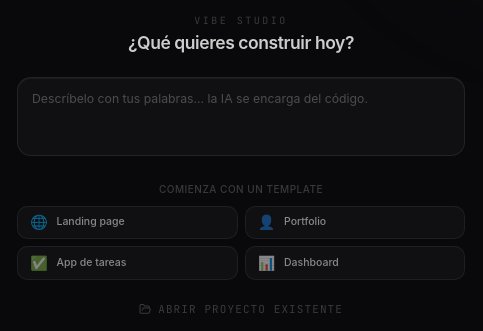
Test: WelcomeScreen › should show send button only when there is text
Type "hola" into the text box named "Describe tu idea para que Vibe AI la construya" at (241, 116), box [17, 77, 465, 156]
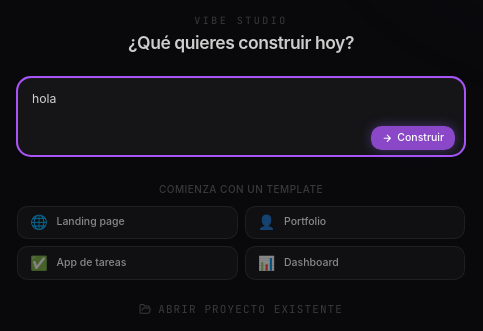
Expected: the button with aria-label "Enviar idea a Vibe AI" reads "Construir", [371, 126, 454, 150]
